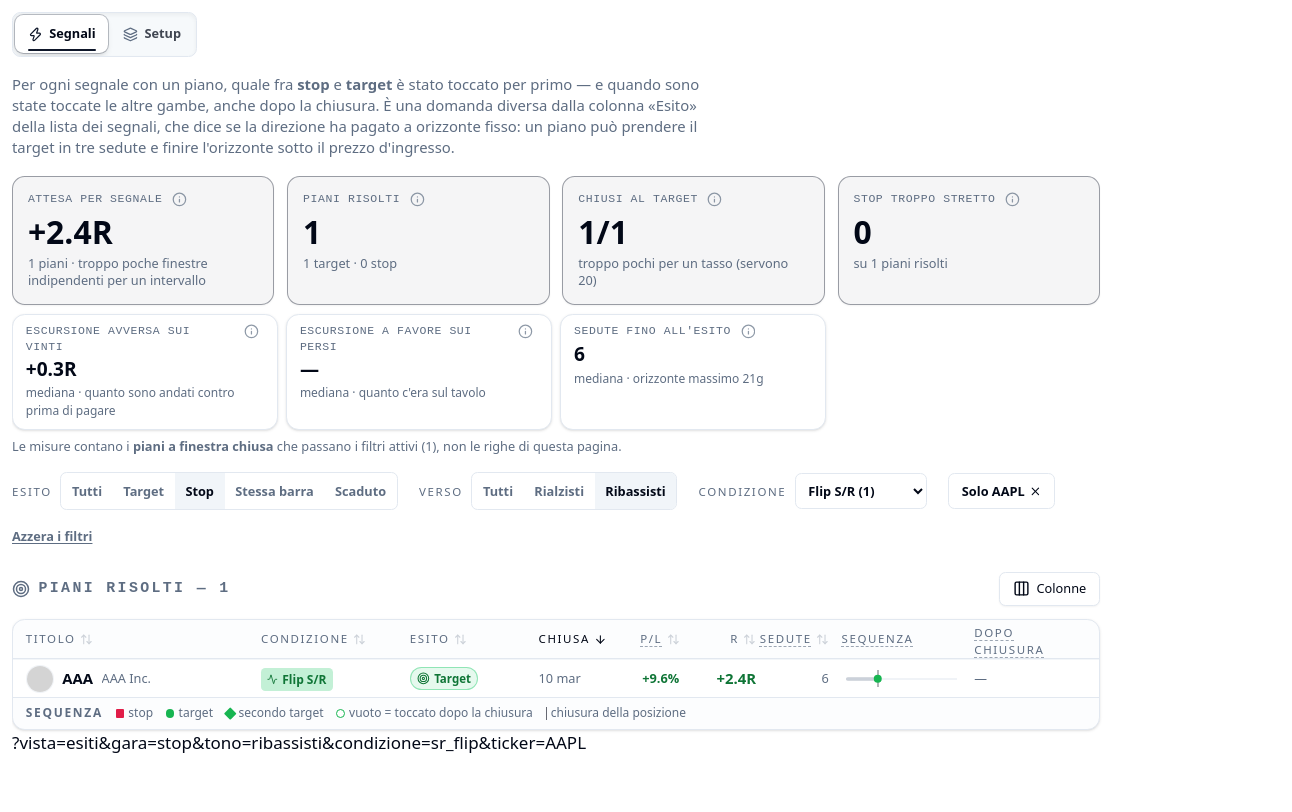
it: OutcomesView — i controlli › «Azzera i filtri» compare solo quando ce n'e' uno, e li toglie tutti
Expected: the text "AAA" is shown, [62,668,93,689]
Click the button "Azzera i filtri" at (52, 537), box [12,519,92,555]
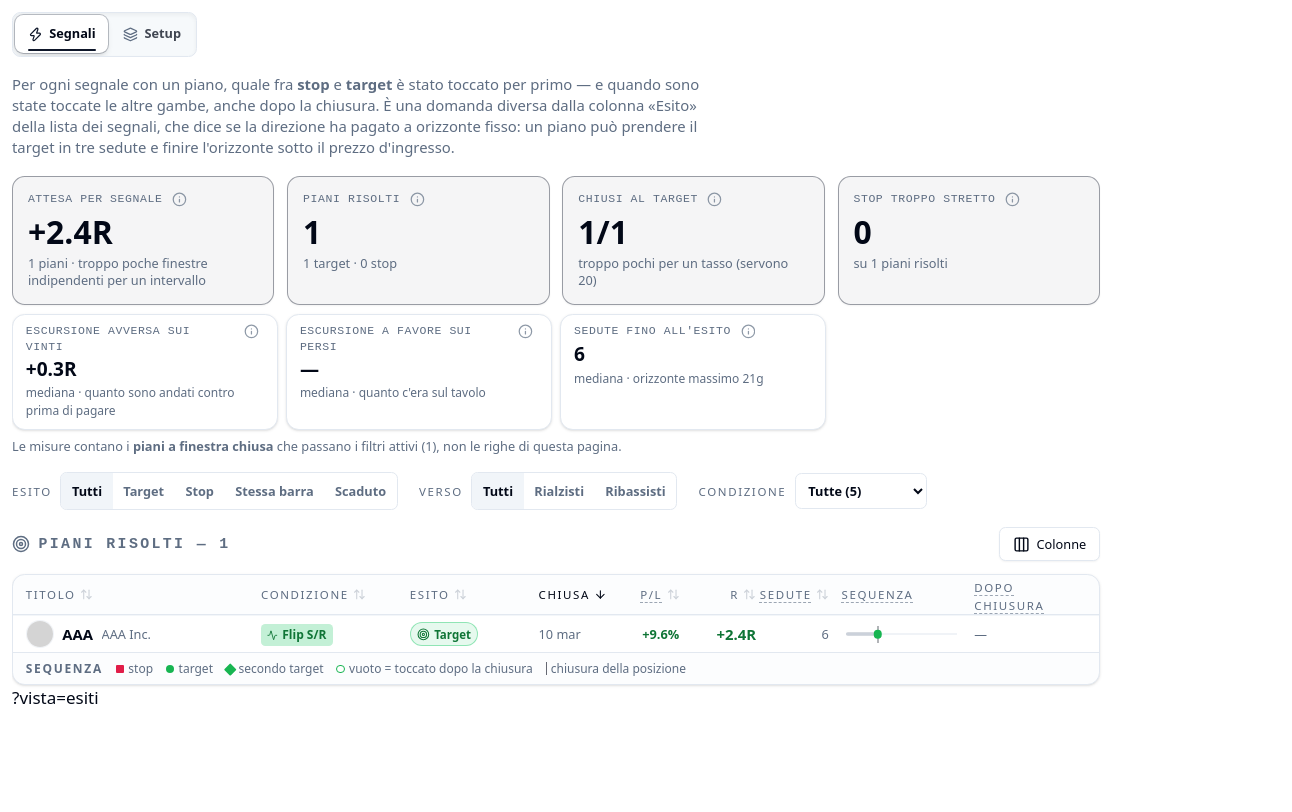
Expected: the text with test id "url" no longer shows "gara", [12,686,99,709]
Expected: the text with test id "url" no longer shows "tono", [12,686,99,709]
Expected: the text with test id "url" no longer shows "ticker", [12,686,99,709]
